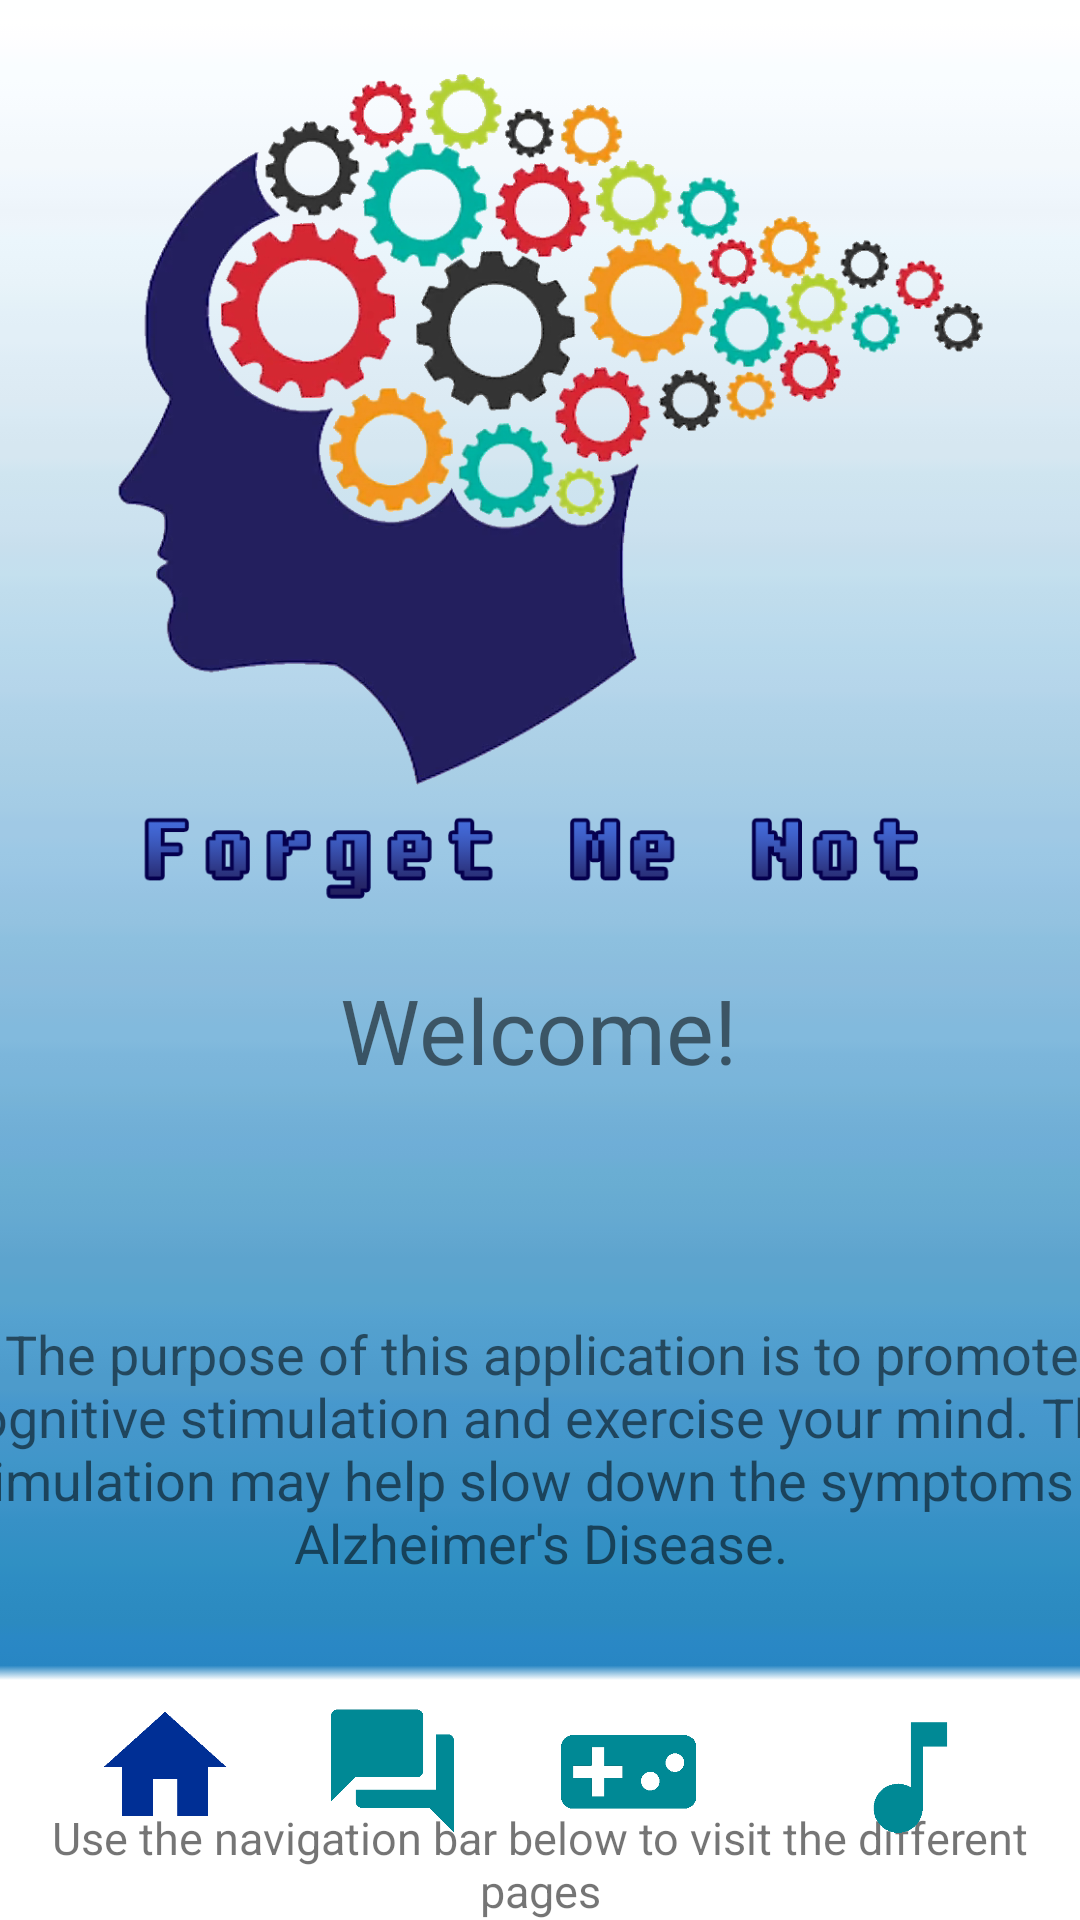

Icons on this 1080*1920 Android screen, each with the point to tap as [x,y]:
game: [628,1772]
home now: [165,1764]
